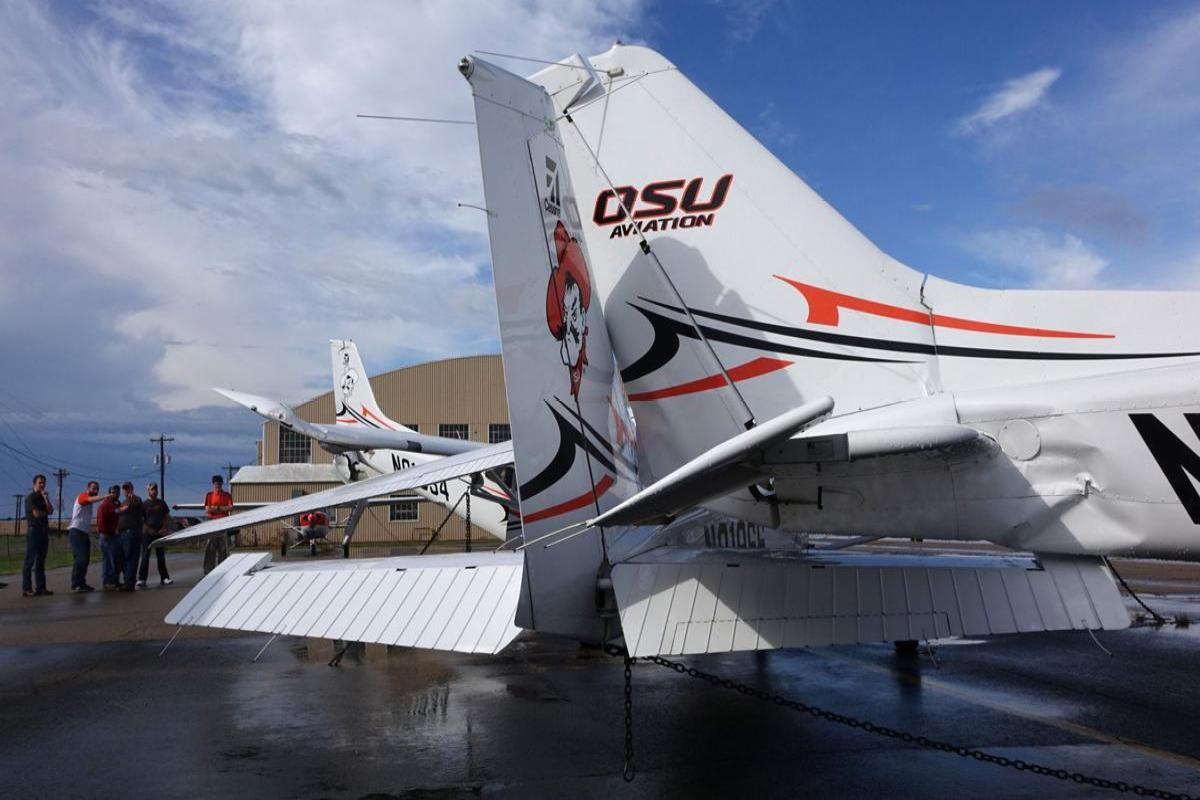Fuselage_damage: (976, 382, 1173, 587)
